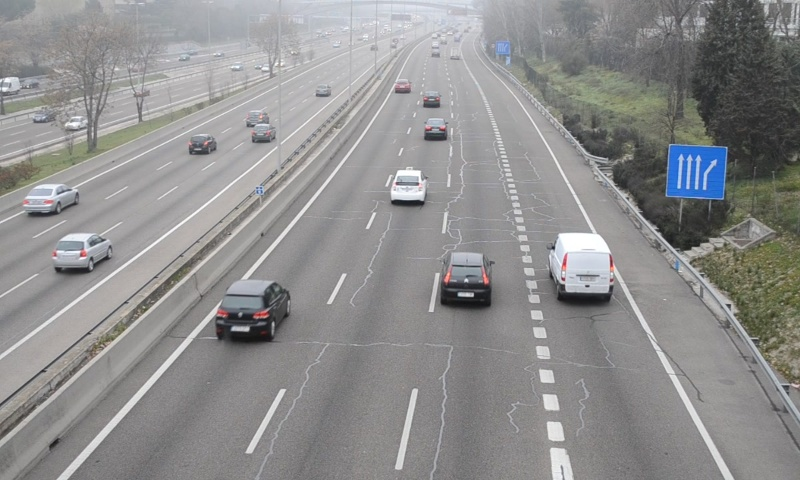car: (214, 281, 289, 339), (441, 252, 492, 305), (391, 170, 426, 203), (423, 117, 448, 142), (422, 89, 441, 108), (394, 78, 410, 92)
van: (550, 233, 614, 300)
